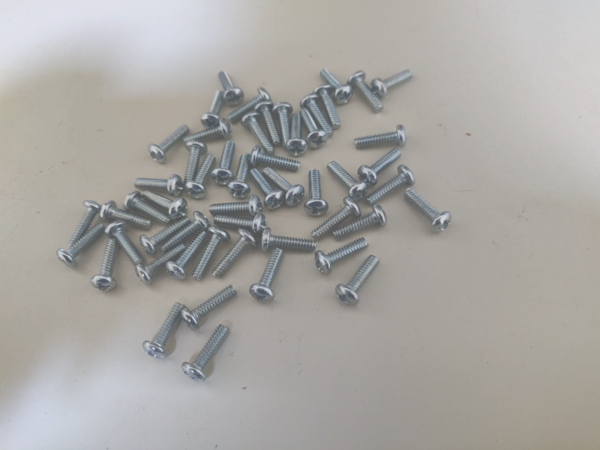shortscrew: (182, 324, 230, 383), (181, 285, 238, 330), (142, 302, 184, 359), (336, 255, 380, 307), (212, 229, 258, 278), (56, 224, 105, 269), (311, 198, 362, 241), (192, 226, 231, 282), (136, 243, 188, 285), (404, 189, 452, 234), (315, 237, 370, 276), (165, 232, 208, 281), (160, 212, 211, 252), (332, 204, 388, 240), (366, 165, 415, 206), (141, 217, 192, 256), (105, 221, 146, 267), (250, 248, 284, 303), (358, 148, 403, 188), (67, 200, 103, 249), (263, 167, 305, 208), (123, 191, 173, 225), (149, 124, 191, 164), (227, 88, 274, 123), (346, 70, 384, 113), (328, 160, 367, 201), (100, 200, 153, 230), (301, 94, 334, 139), (92, 239, 120, 292), (185, 154, 217, 200), (183, 118, 232, 148), (242, 111, 275, 155), (250, 146, 302, 173), (250, 169, 284, 210), (142, 190, 188, 220), (261, 228, 317, 252), (354, 124, 406, 149), (313, 85, 341, 131), (214, 213, 266, 237), (209, 195, 263, 218), (371, 70, 415, 98), (321, 69, 354, 106), (184, 140, 208, 190), (211, 141, 237, 187), (299, 109, 328, 150), (304, 170, 329, 217), (227, 153, 252, 199), (201, 91, 228, 130), (135, 175, 185, 196), (218, 71, 245, 107), (286, 114, 308, 157), (274, 102, 290, 148)
